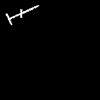double_crochet: (6, 5, 38, 24)
